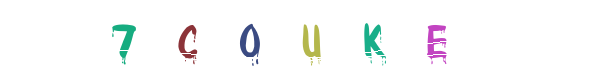7: (147, 0, 227, 80)
C: (210, 0, 290, 80)
E: (395, 0, 475, 80)
K: (260, 0, 340, 80)
O: (214, 0, 294, 80)
U: (246, 0, 326, 80)
